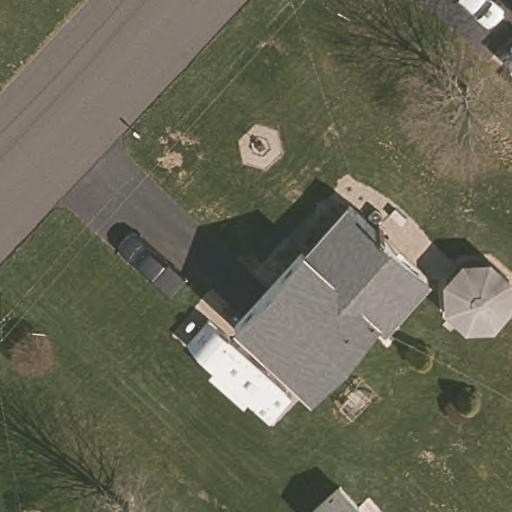DT: (126, 128, 146, 144)
